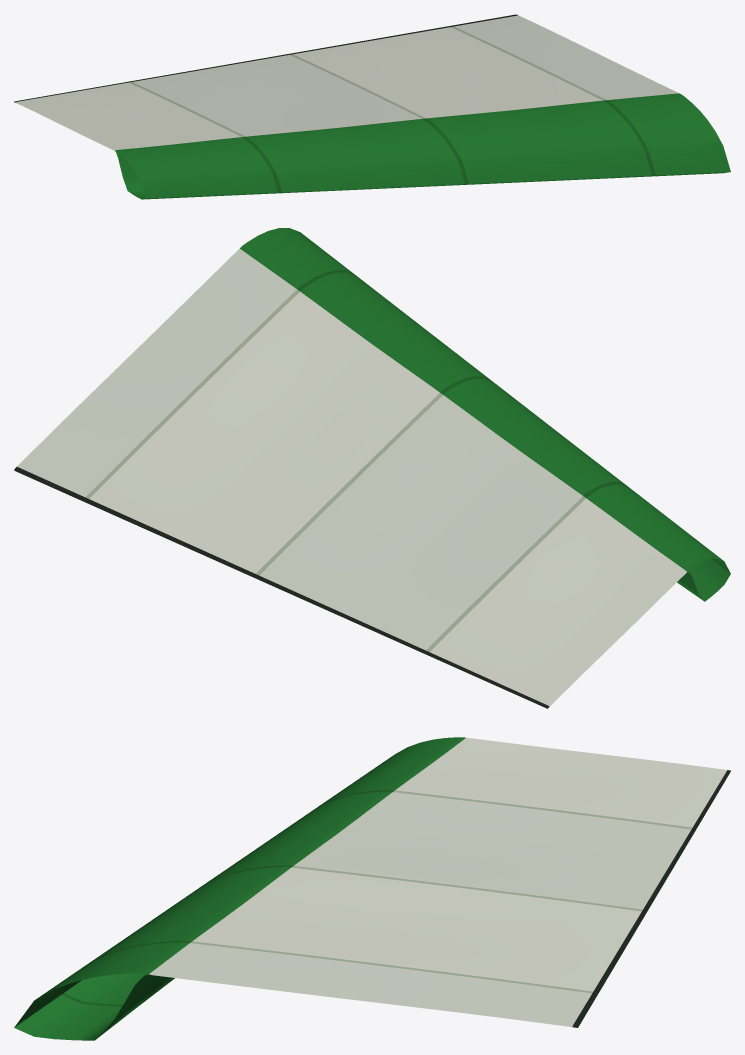
The model's file is wing_tip_right_2_sail.dae.
3 views of the same model, one above another, from view 1: azimuth 30°, elevation 25°; view 2: azimuth 150°, elevation 25°; view 3: azimuth 270°, elevation 25° (orthographic). The views are drawn at different scales.
Visible parts, largest first — view 1: wing; view 2: wing; view 3: wing.
Part boxes in pixels (x1,y1,x2,y2): wing: (14, 14, 730, 199); wing: (14, 228, 730, 708); wing: (14, 737, 730, 1040).
Size of the model in its own units: 1.72 by 1.83 by 0.2545.
